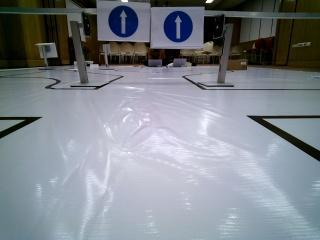straight: (149, 9, 202, 50), (99, 0, 150, 41)
